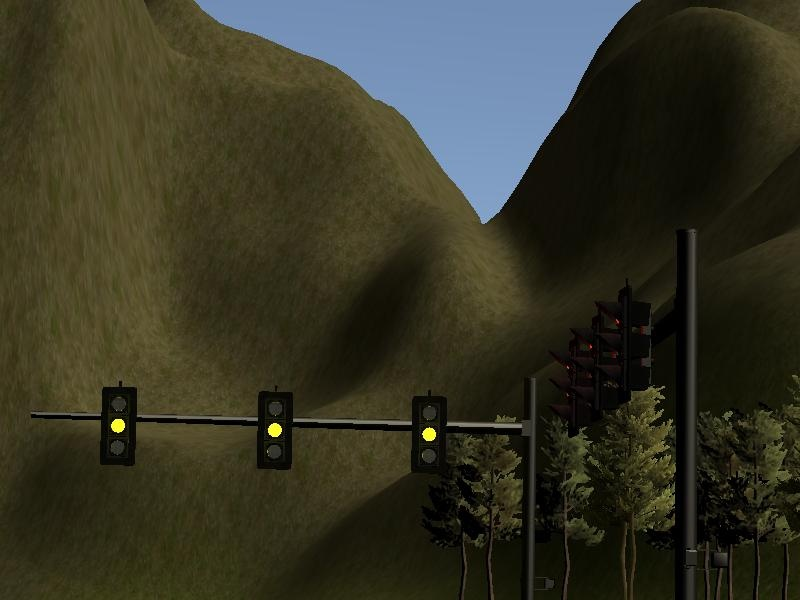YELLOW: (99, 389, 135, 465), (256, 390, 292, 466), (409, 395, 445, 471)
